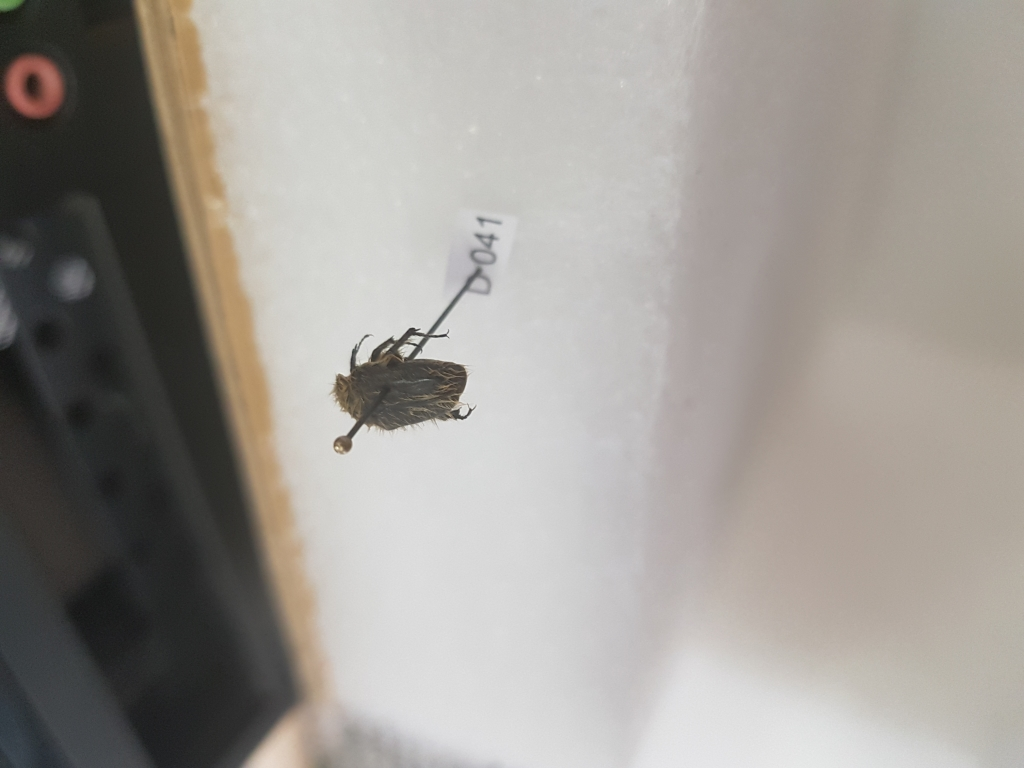Tropinota_senicula: (328, 319, 484, 431)
